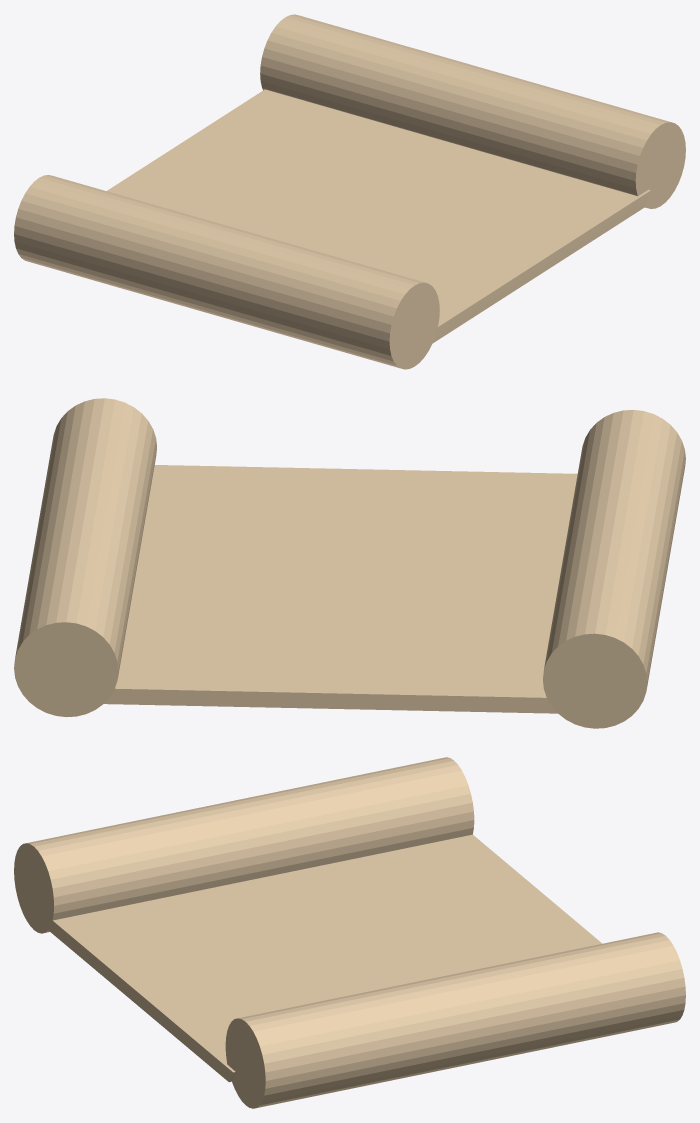
File: Parchment.fbx
3 renders of one model, top to bottom at view 1: azimuth 30°, elevation 25°; view 2: azimuth 150°, elevation 25°; view 3: azimuth 270°, elevation 25°, orthographic. The views are drawn at different scales.
Visible parts, largest first — view 1: Cylinder.001; view 2: Cylinder.001; view 3: Cylinder.001.
Boxes of the visible parts, x1,y1,x2,y2 form: Cylinder.001: [14, 14, 685, 369]; Cylinder.001: [14, 398, 685, 728]; Cylinder.001: [14, 757, 685, 1108].
Size of the model in its own units: 102 by 13.45 by 98.13.
